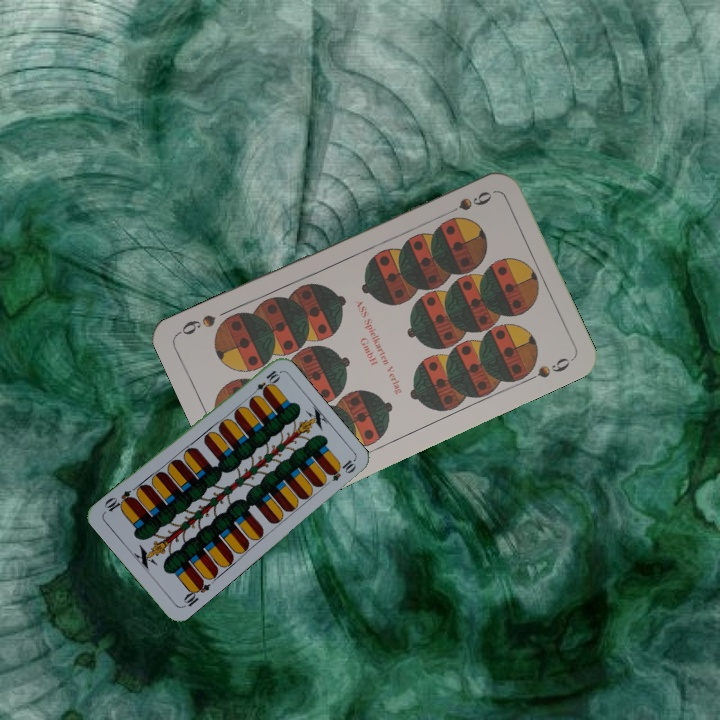E10: (179, 575, 213, 610), (247, 366, 282, 399)
S9: (439, 187, 495, 217)
